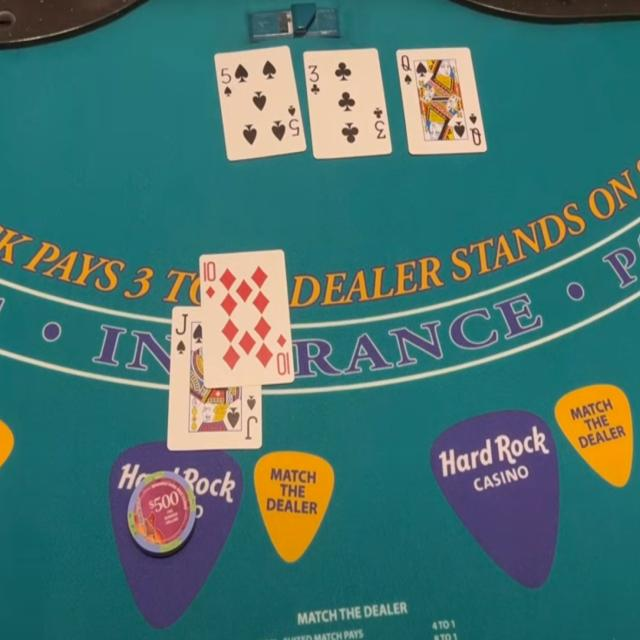10: (201, 259, 217, 285)
3: (306, 62, 324, 82)
5: (218, 65, 233, 85)
J: (174, 311, 188, 337)
Q: (399, 54, 413, 73)
